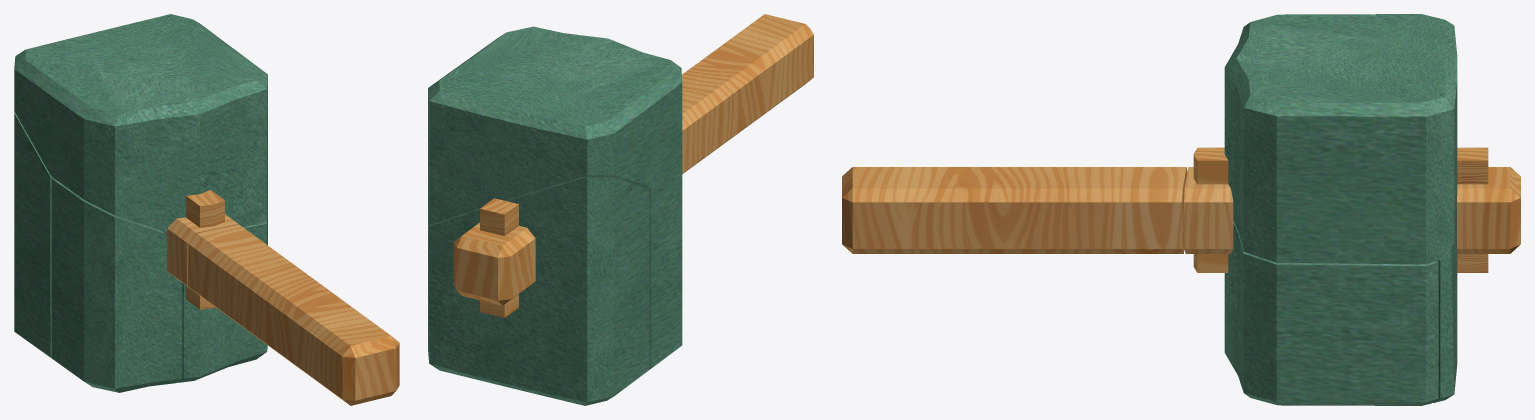
The model's file is Tool_Hammer_Drop.fbx.
The picture shows the model from 3 angles, left to right: view 1: azimuth 30°, elevation 25°; view 2: azimuth 150°, elevation 25°; view 3: azimuth 270°, elevation 25°; orthographic projection. The views are drawn at different scales.
Visible parts, largest first — view 1: Tool_Hammer_Drop.004, Tool_Hammer_Drop.005, Tool_Hammer_Drop.000, Tool_Hammer_Drop.006, Tool_Hammer_Drop.007, Tool_Hammer_Drop.001, Tool_Hammer_Drop.002; view 2: Tool_Hammer_Drop.004, Tool_Hammer_Drop.006, Tool_Hammer_Drop.000, Tool_Hammer_Drop.005, Tool_Hammer_Drop.001, Tool_Hammer_Drop.003; view 3: Tool_Hammer_Drop.004, Tool_Hammer_Drop.007, Tool_Hammer_Drop.000, Tool_Hammer_Drop.001, Tool_Hammer_Drop.006, Tool_Hammer_Drop.002, Tool_Hammer_Drop.003.
Part boxes in pixels (x1,y1,x2,y2): Tool_Hammer_Drop.004: (14,14,267,232); Tool_Hammer_Drop.005: (51,178,182,392); Tool_Hammer_Drop.000: (188,225,399,405); Tool_Hammer_Drop.006: (14,111,55,357); Tool_Hammer_Drop.007: (178,211,267,382); Tool_Hammer_Drop.001: (163,214,239,290); Tool_Hammer_Drop.002: (186,190,224,309); Tool_Hammer_Drop.004: (428,26,682,228); Tool_Hammer_Drop.006: (428,177,649,405); Tool_Hammer_Drop.000: (682,14,813,173); Tool_Hammer_Drop.005: (647,164,682,369); Tool_Hammer_Drop.001: (453,222,535,305); Tool_Hammer_Drop.003: (480,198,518,317); Tool_Hammer_Drop.004: (1224,14,1457,264); Tool_Hammer_Drop.007: (1224,222,1438,405); Tool_Hammer_Drop.000: (842,167,1187,253); Tool_Hammer_Drop.001: (1184,167,1520,253); Tool_Hammer_Drop.006: (1433,181,1457,402); Tool_Hammer_Drop.002: (1193,147,1228,272); Tool_Hammer_Drop.003: (1457,147,1488,272).
Size of the model in its own units: 22.54 by 32.25 by 65.44.
